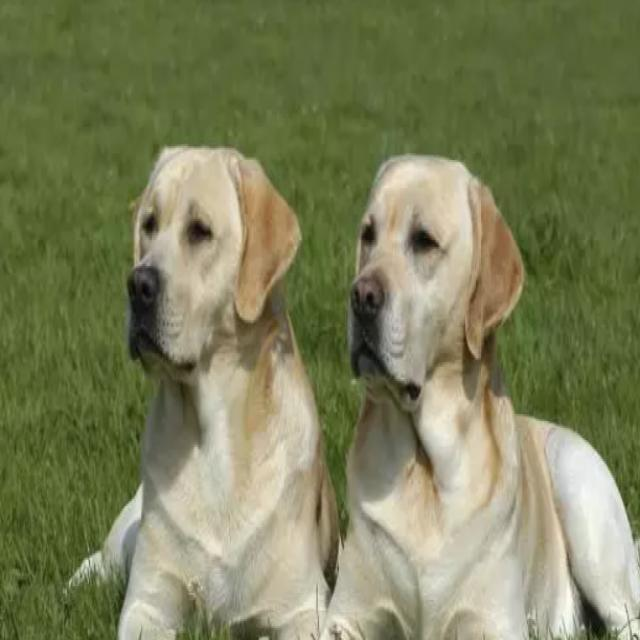dogs: (321, 152, 640, 639), (63, 145, 336, 640)
